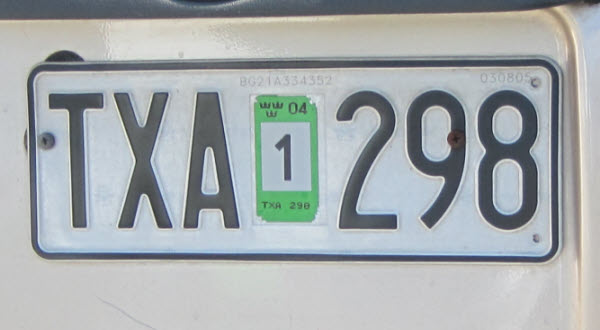license_plate: (26, 62, 560, 263)
